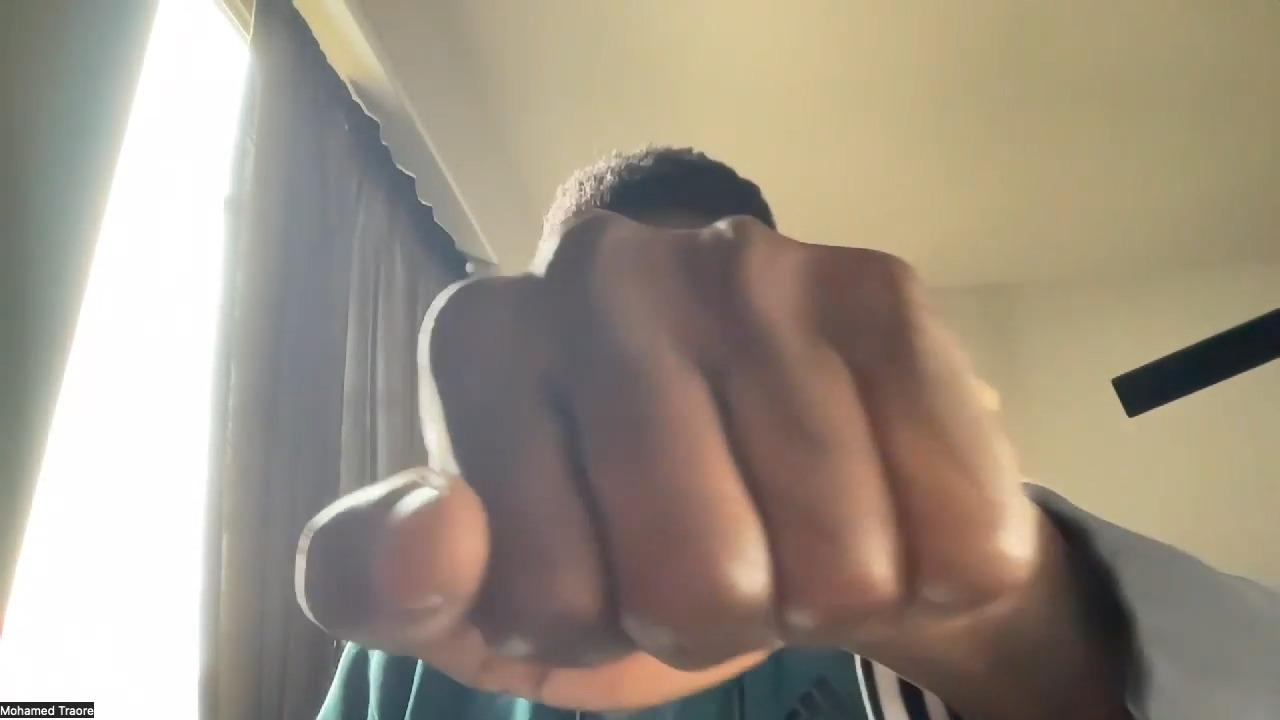Rock: (293, 207, 1044, 710)
